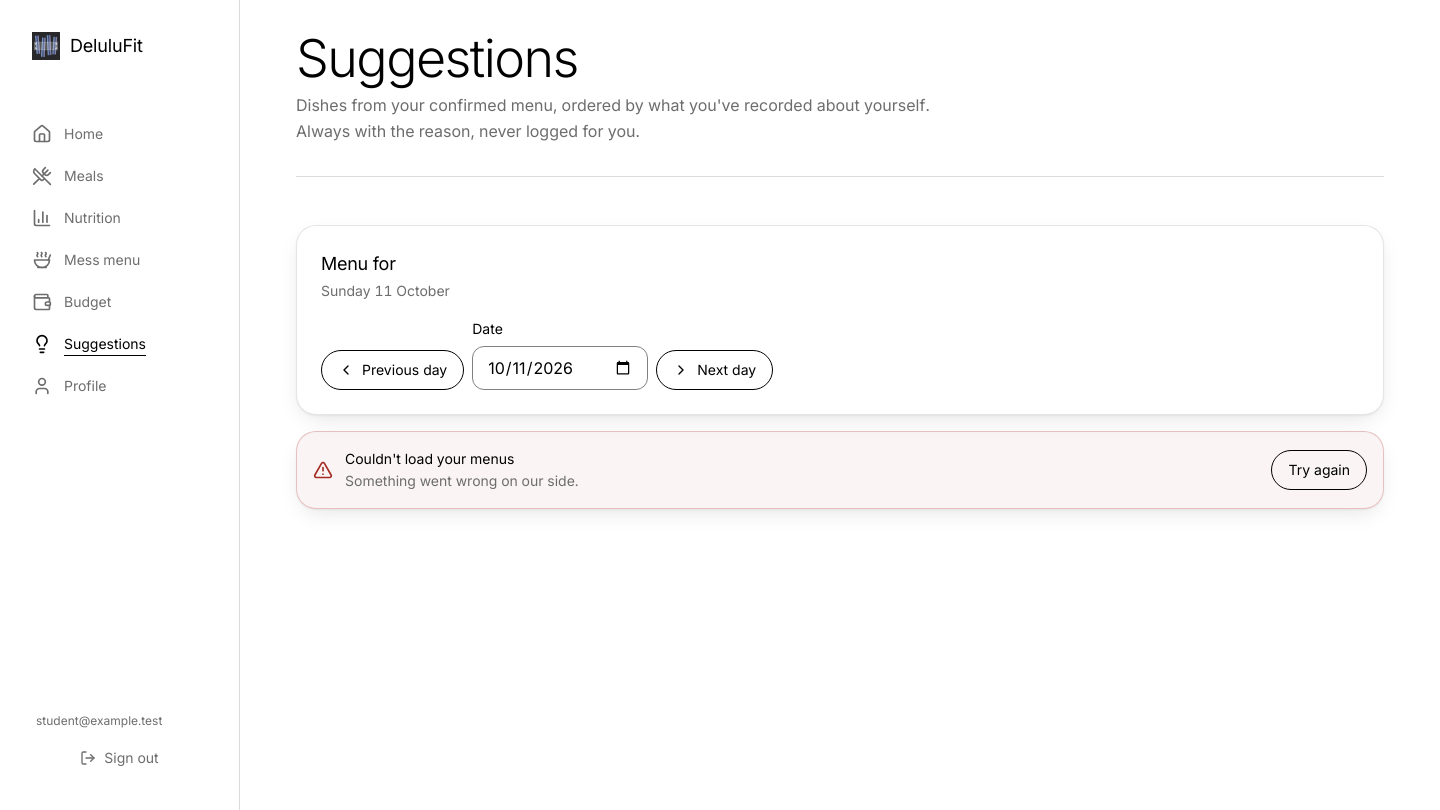
Test case: suggestions page for a real account › shows an error with a working retry instead of sample data
Expected: the message shows "Couldn't load your menus", [345,450,514,467]
Expected: the message shows "Something went wrong on our side.", [345,472,579,489]
Click the button "Try again".
click(1319, 470)  # box [1272,450,1367,490]
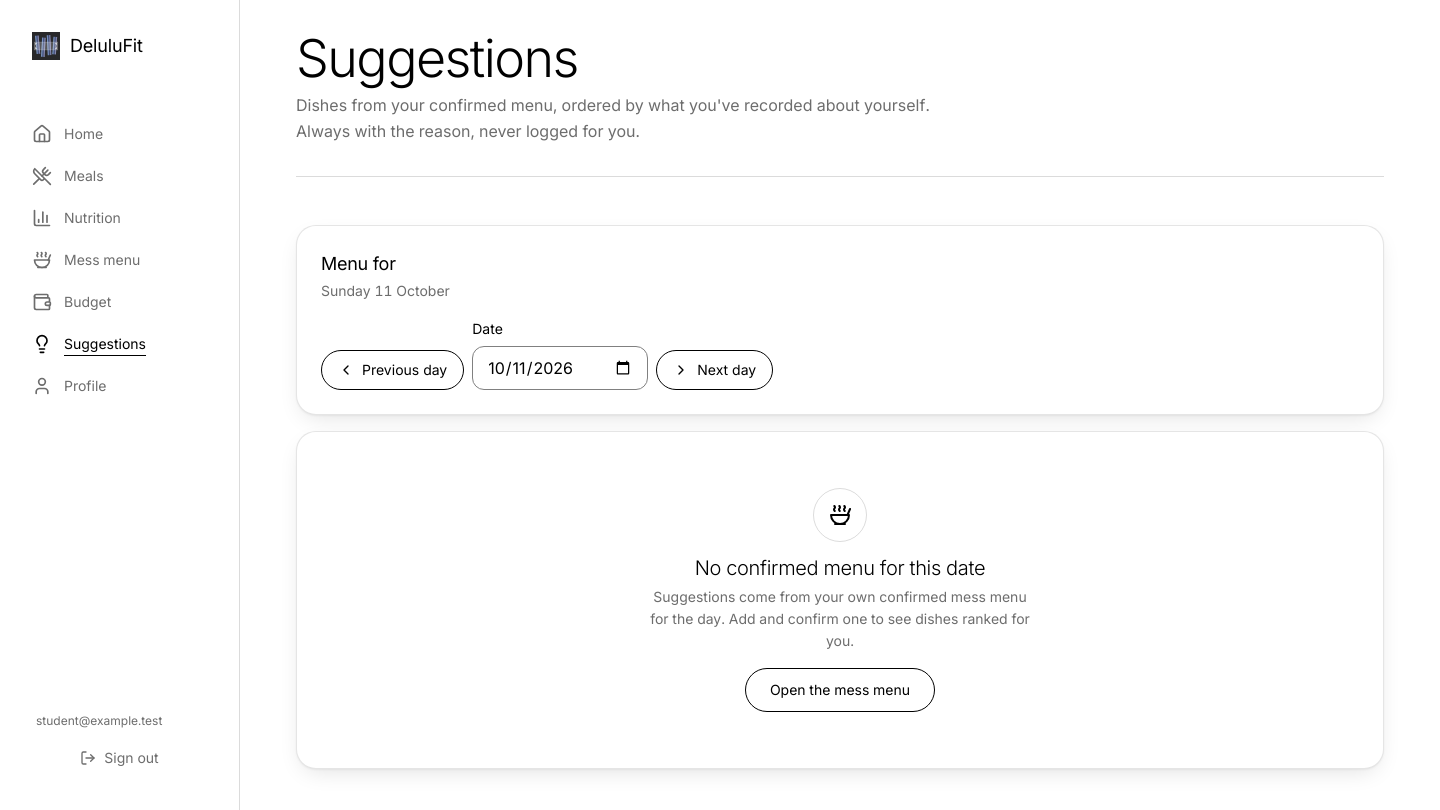
Result: the heading "No confirmed menu for this date" is shown at [695,554,985,582]
